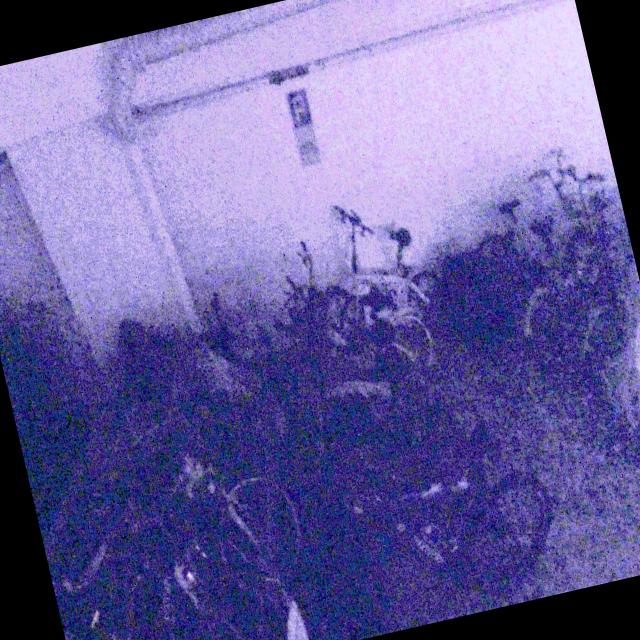bike: (310, 186, 458, 360)
